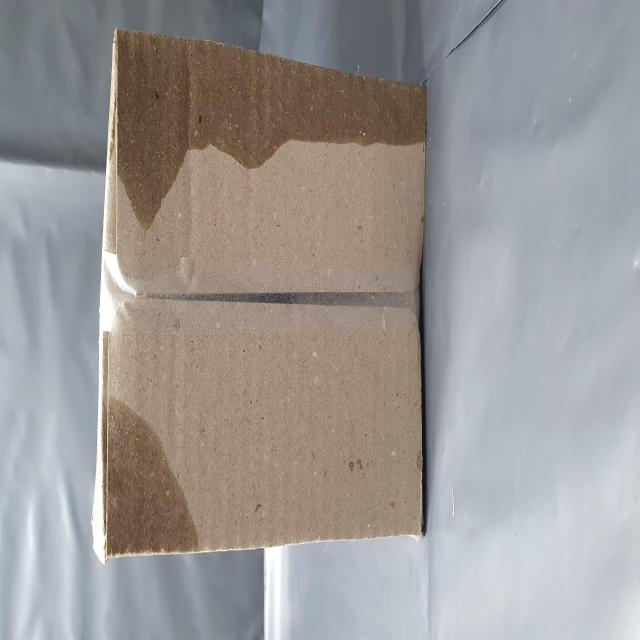wet: (221, 209, 343, 640), (46, 190, 150, 376)
